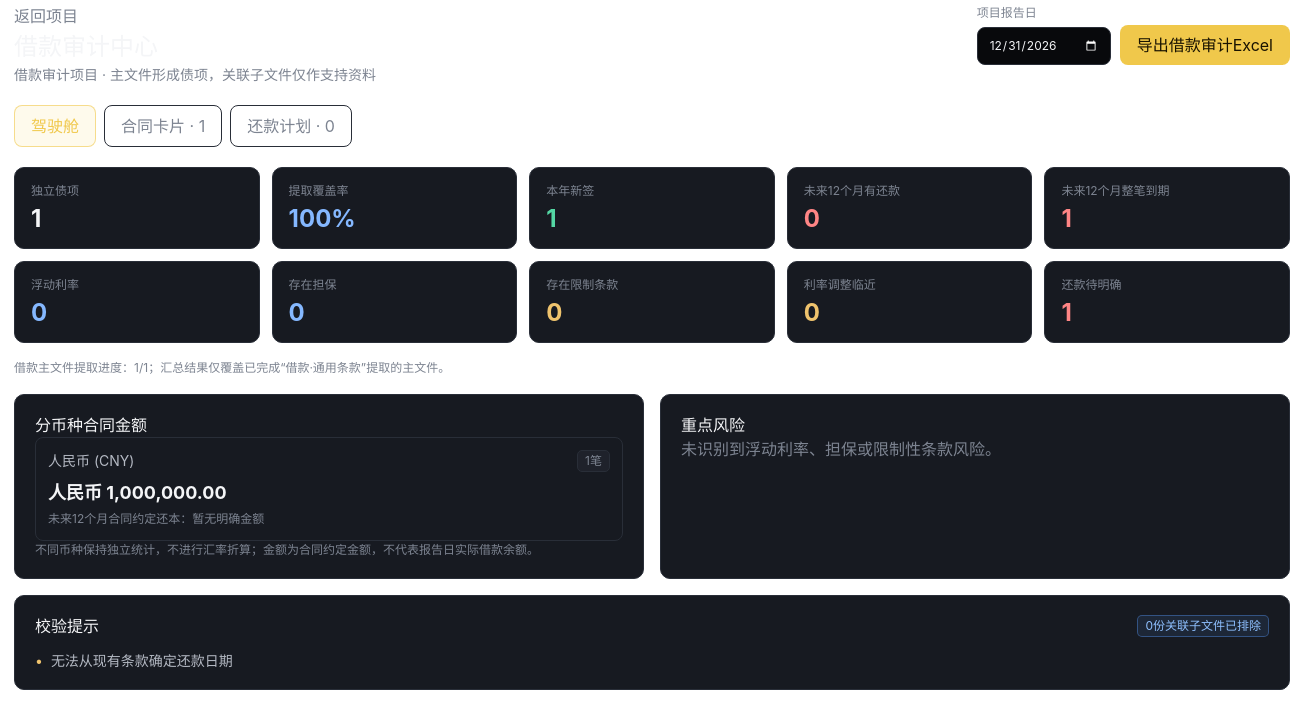
AudiPick 1.4.6 界面回归 › 借款审计中心按主合同形成债项并提供三种视图
The width and height of the screenshot is (1304, 720).
Expected: the button "驾驶舱" is shown, [14,105,96,147]
Expected: the button "还款计划 · 0" is shown, [230,105,352,147]
Click the button "合同卡片 · 1" at (163, 126), box [104,105,222,147]
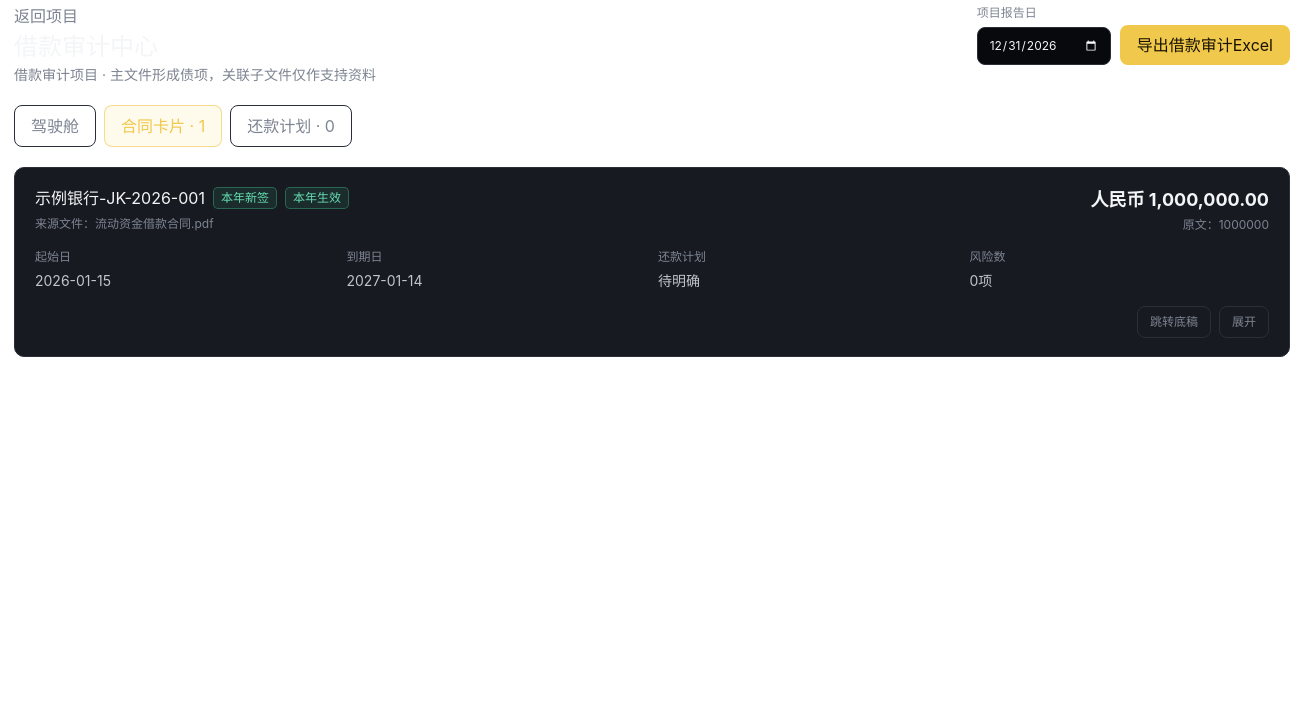
Result: the heading "示例银行-JK-2026-001" is shown at [35,186,205,210]
